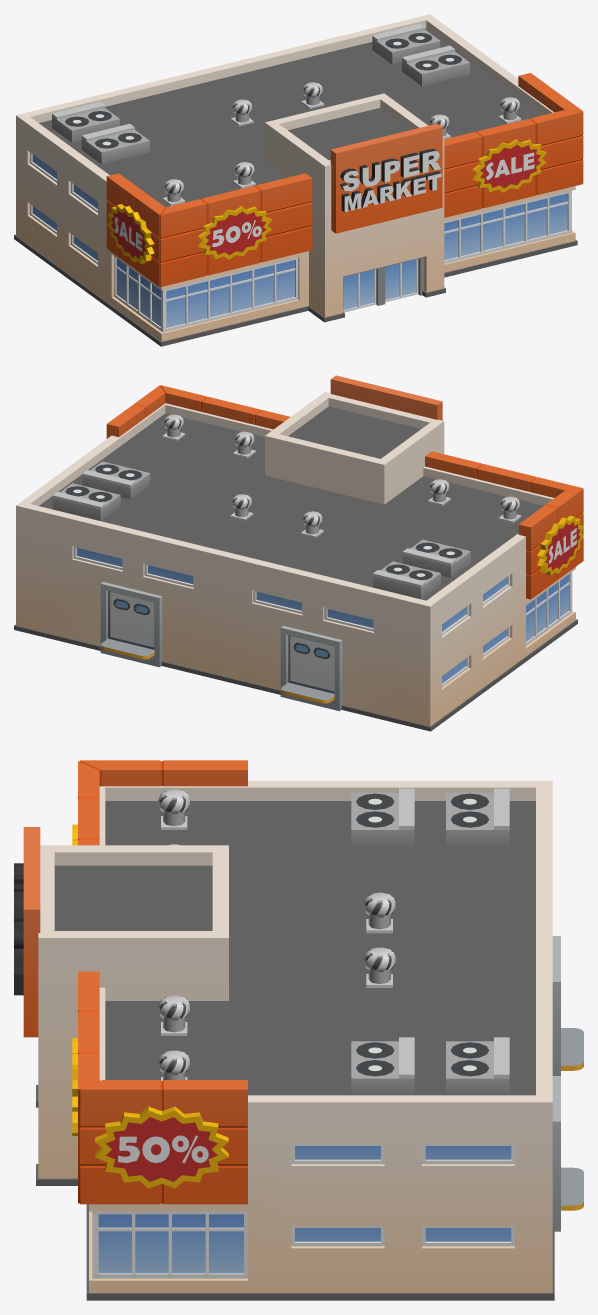
Rendered from supermarket_001.glb.
3 renders of one model, top to bottom at view 1: azimuth 30°, elevation 25°; view 2: azimuth 150°, elevation 25°; view 3: azimuth 270°, elevation 25°, orthographic. The views are drawn at different scales.
Visible parts, largest first — view 1: supermarket_001; view 2: supermarket_001; view 3: supermarket_001.
Boxes of the visible parts, x1,y1,x2,y2 form: supermarket_001: [14, 14, 583, 346]; supermarket_001: [14, 375, 583, 731]; supermarket_001: [14, 760, 583, 1300].
Bounding box in the file's own units: 26.85 × 10.04 × 19.15.
2 materials, 2 textured.
